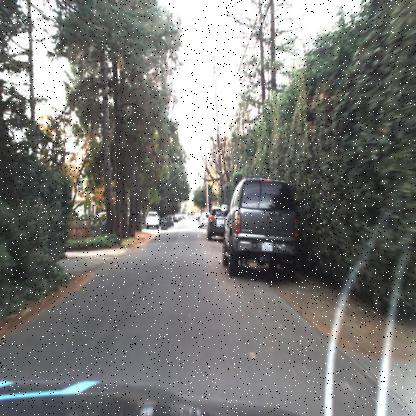car: (220, 170, 302, 280), (204, 206, 228, 242), (193, 207, 209, 234), (142, 208, 160, 231), (171, 212, 179, 224)
